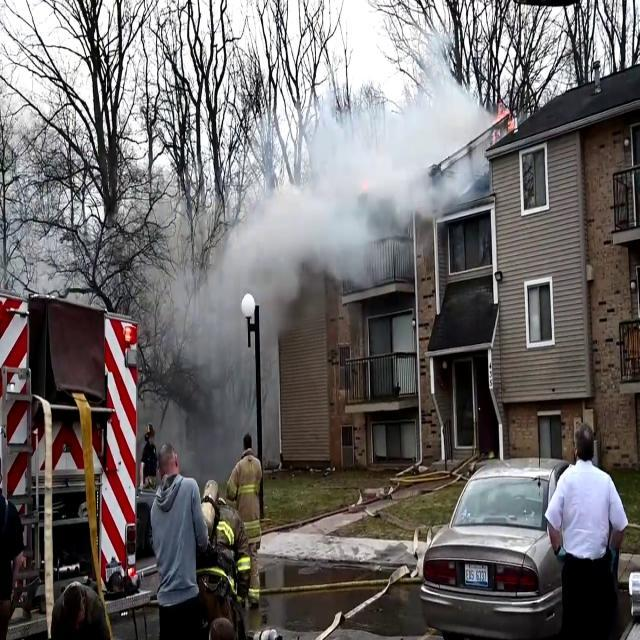Smoke: (146, 39, 484, 338)
